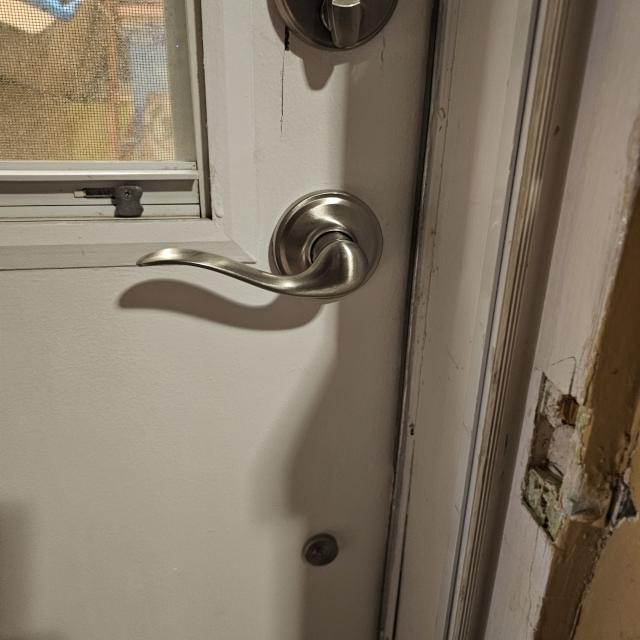door-handle: (138, 191, 382, 299)
